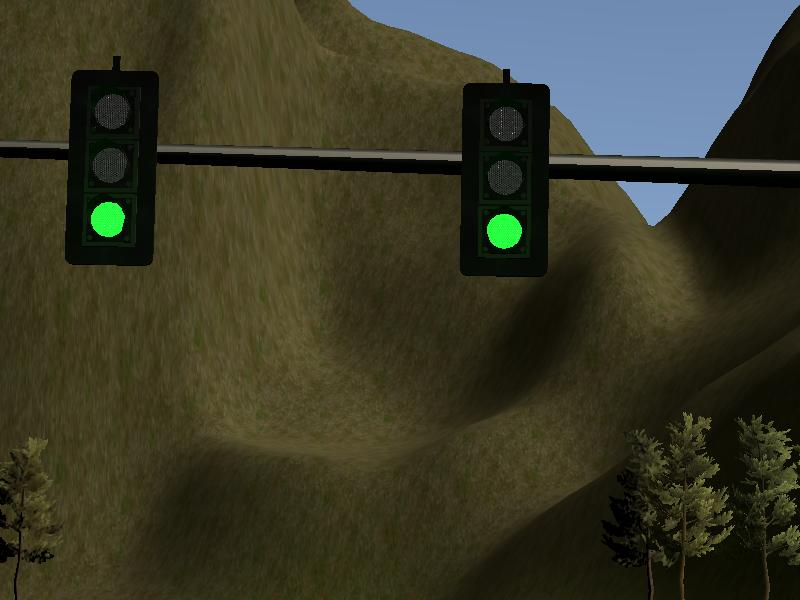green: (460, 83, 548, 280), (68, 70, 156, 267)
